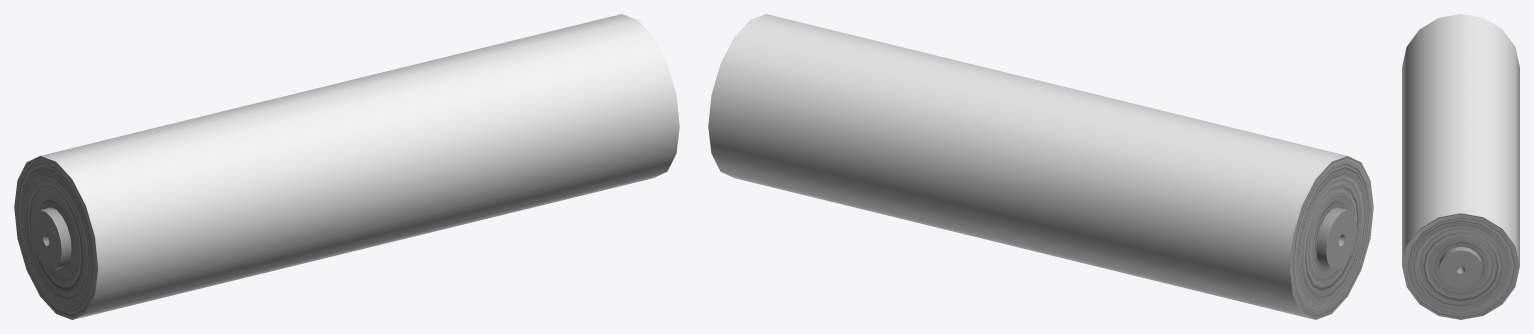
Rendered from Pfb_FabricScroll__4.fbx.
3 renders of one model, left to right at view 1: azimuth 30°, elevation 25°; view 2: azimuth 150°, elevation 25°; view 3: azimuth 270°, elevation 25°, orthographic. The views are drawn at different scales.
Visible parts, largest first — view 1: Mat_FabricScroll_Black; view 2: Mat_FabricScroll_Black; view 3: Mat_FabricScroll_Black.
Part boxes in pixels (<box>): Mat_FabricScroll_Black: <box>14,14,679,319</box>; Mat_FabricScroll_Black: <box>708,14,1373,319</box>; Mat_FabricScroll_Black: <box>1402,14,1519,319</box>.
Size of the model in its own units: 2.07 by 0.5 by 0.5.
Materials: 1 (1 with a texture image).
